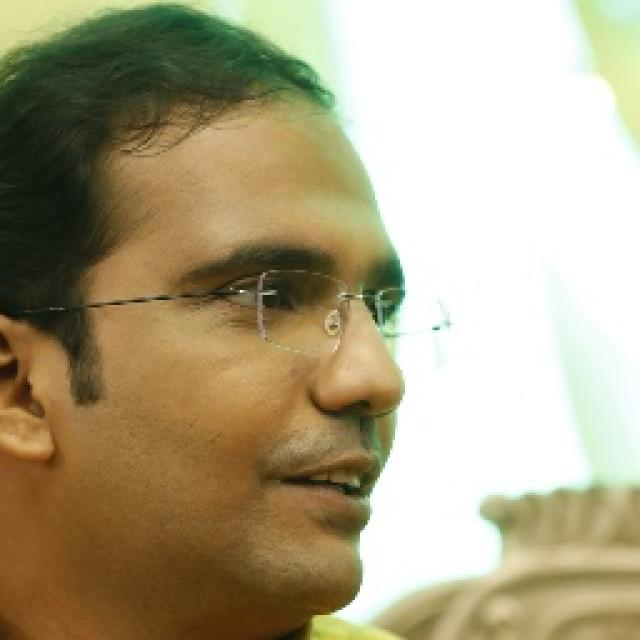earlobe: (0, 313, 50, 465)
